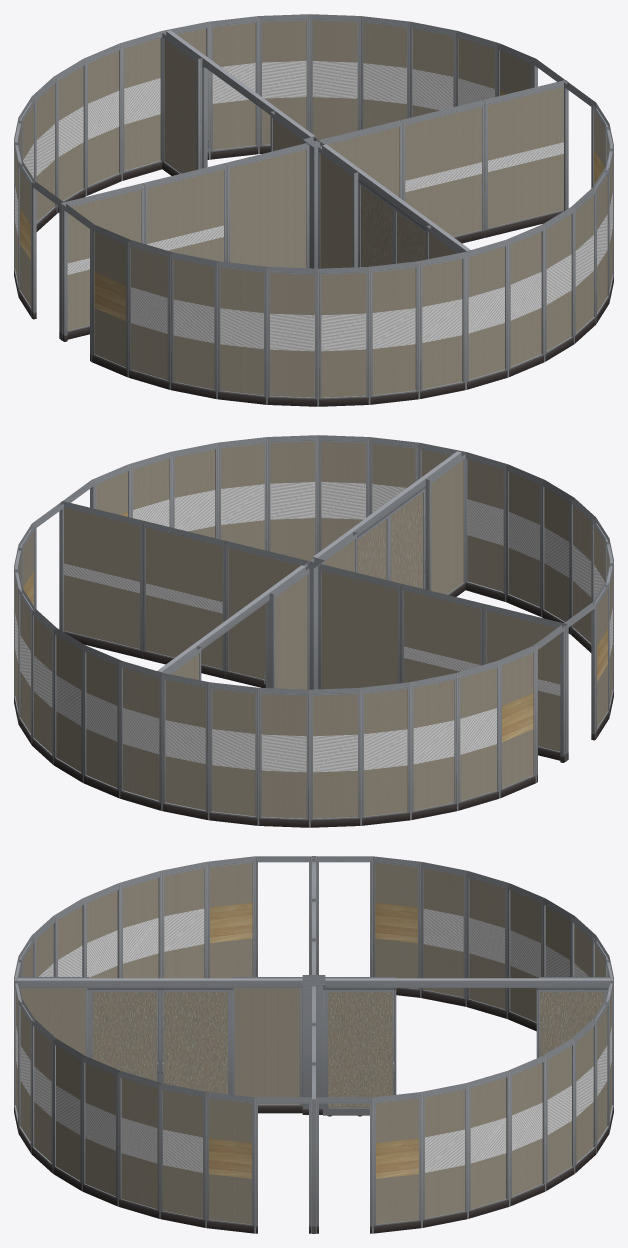
The model's file is env_cscCenter.FBX.
The picture shows the model from 3 angles, top to bottom: view 1: azimuth 30°, elevation 25°; view 2: azimuth 150°, elevation 25°; view 3: azimuth 270°, elevation 25°; orthographic projection.
Parts seen in each view (by area): view 1: env_cscCenter; view 2: env_cscCenter; view 3: env_cscCenter.
Part boxes in pixels (box(x1,y1,x2,y2)): env_cscCenter: box(14, 14, 613, 406); env_cscCenter: box(14, 435, 613, 827); env_cscCenter: box(14, 856, 613, 1233).
Size of the model in its own units: 9.44 by 2.47 by 9.85.
